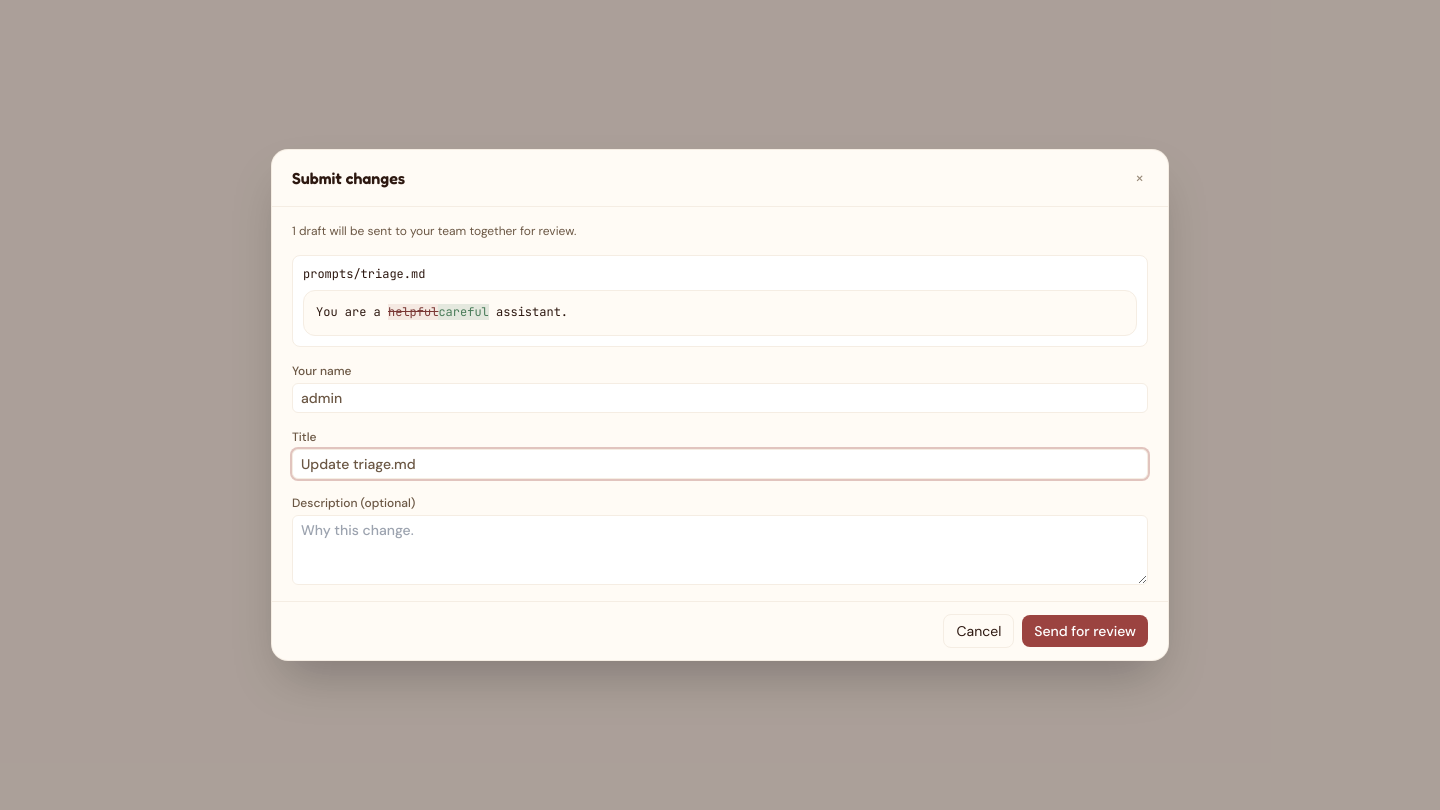
Test: SubmitModal › renders a friendly Alert with raw error tucked into details on submit failure
The image size is (1440, 810).
Replace the text in the field with placeholder "Pat" with "Alice" at (720, 398), box [292,383,1148,413]
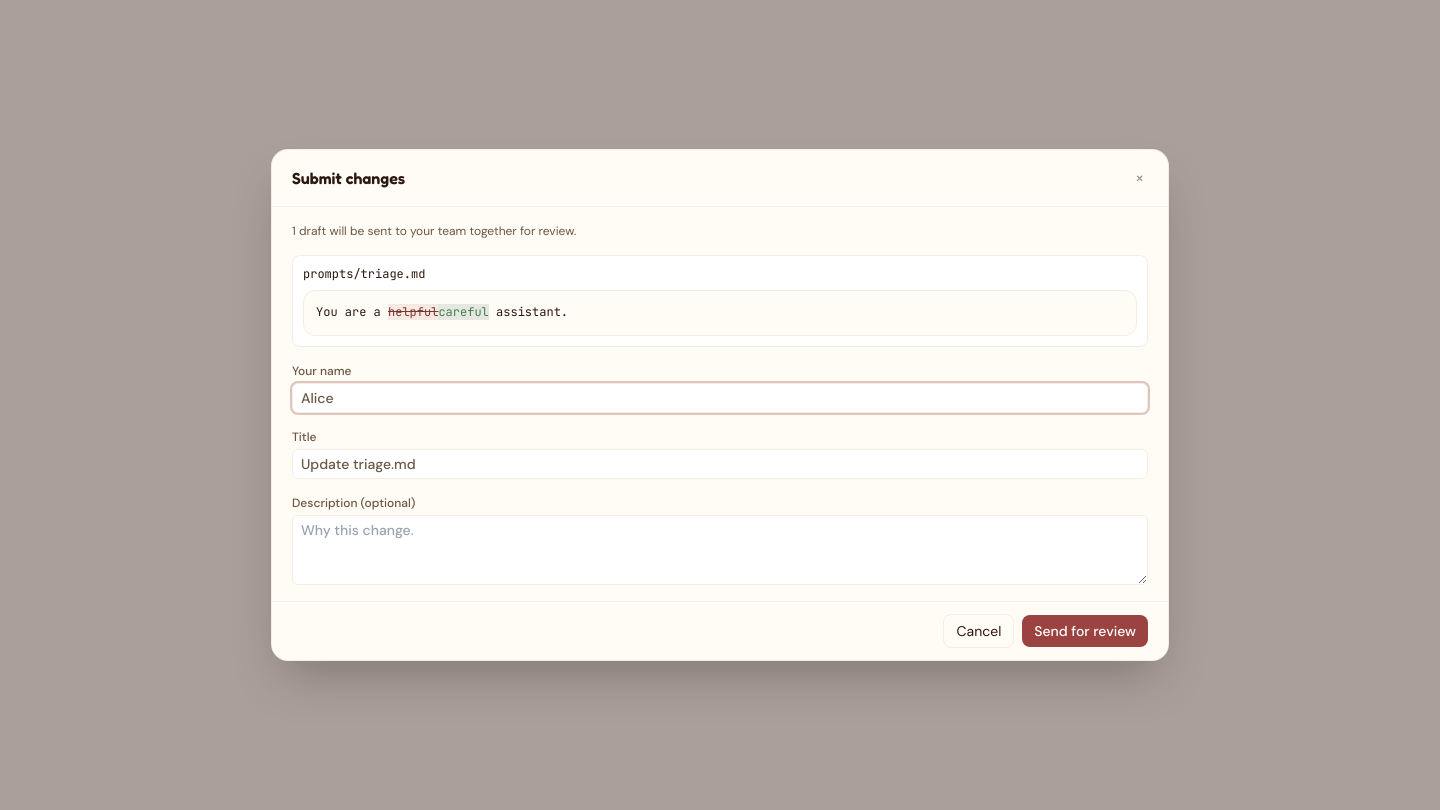
Type "Tighten" into the field with placeholder "Tighten triage prompt".
click(720, 464); type("Tighten")  # box [292,449,1148,479]
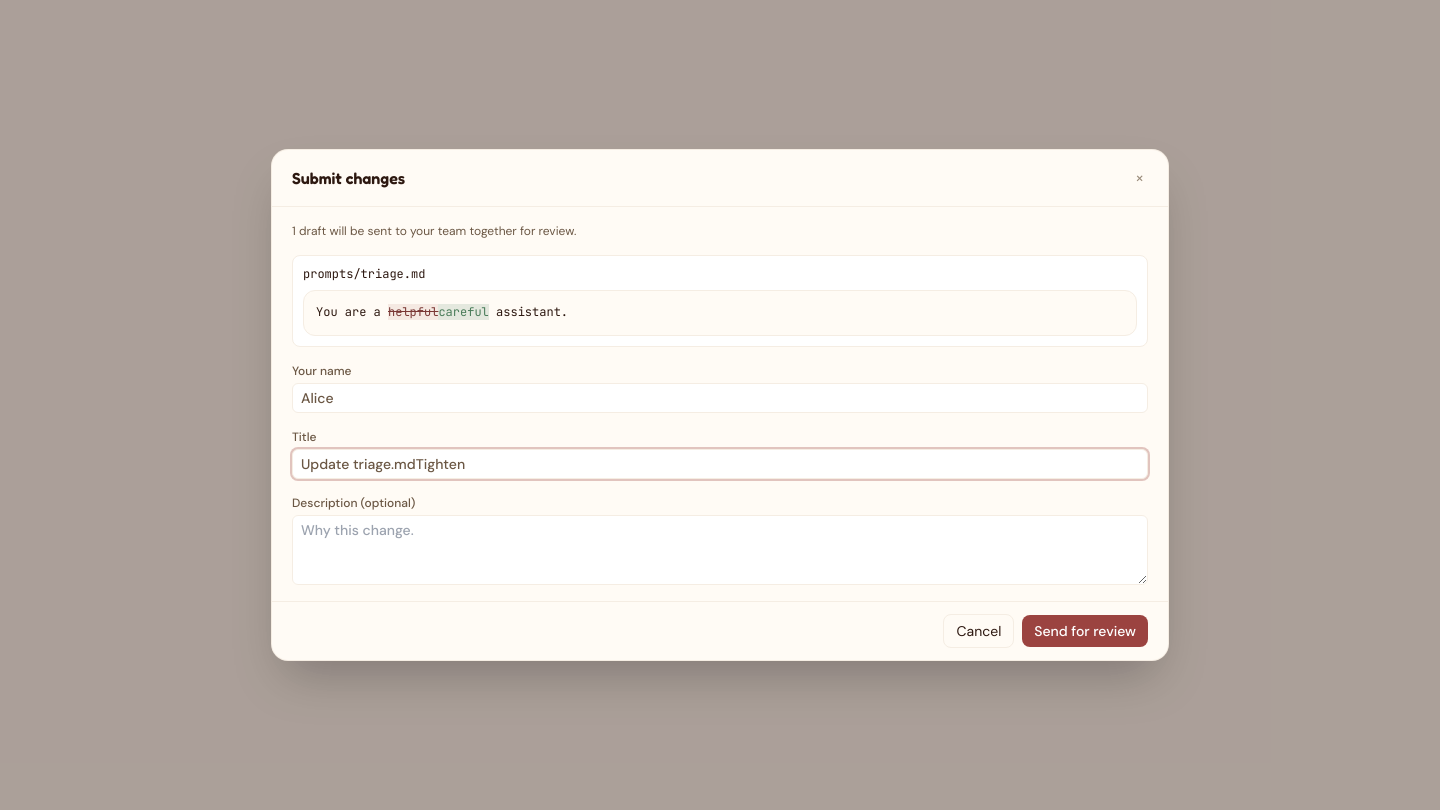
Click the button "Send for review".
click(1085, 631)  # box [1022,615,1148,647]
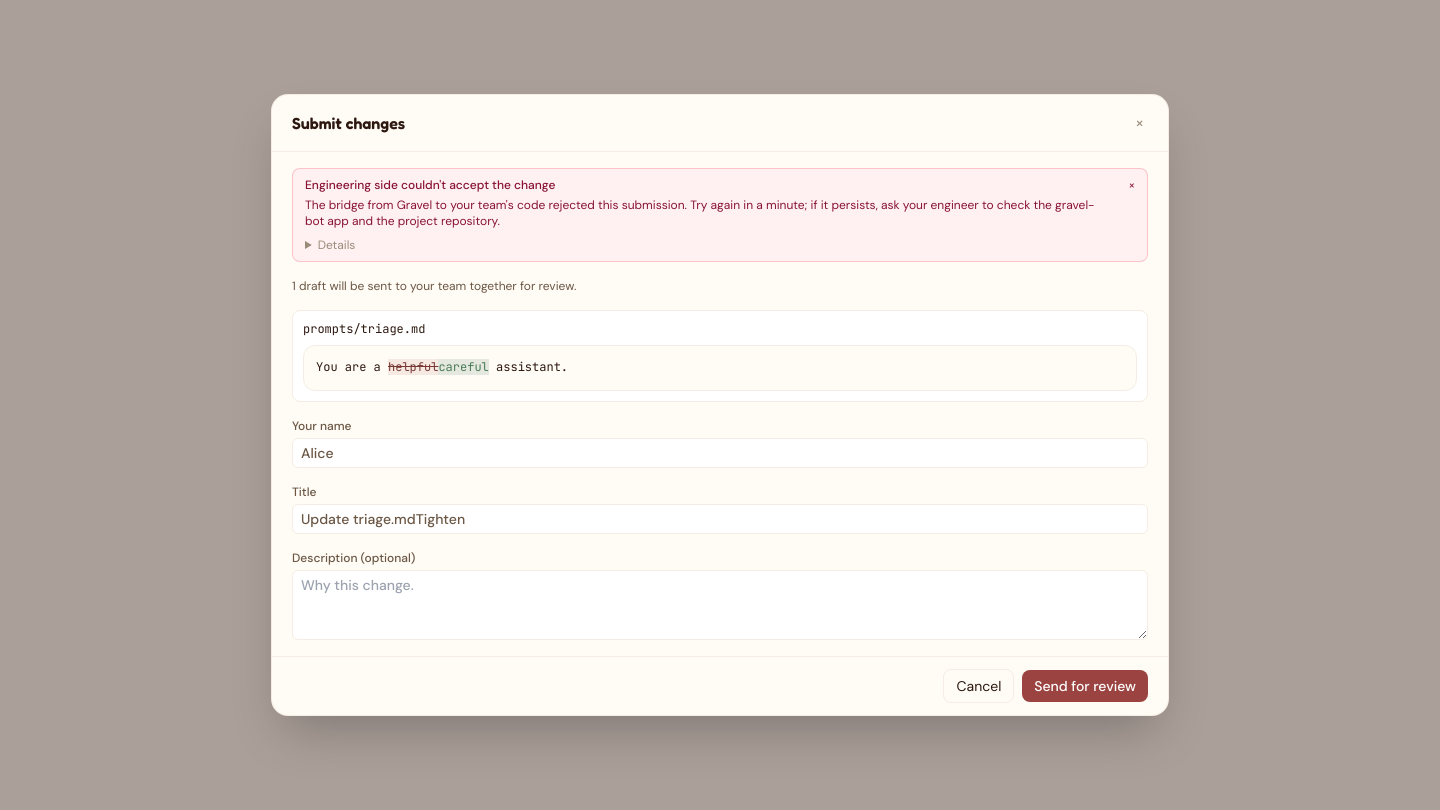
Check: the message shows "Try again in a minute", box [305,197,1094,229]
